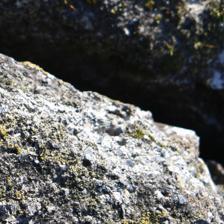Crack: (6, 48, 212, 186)
